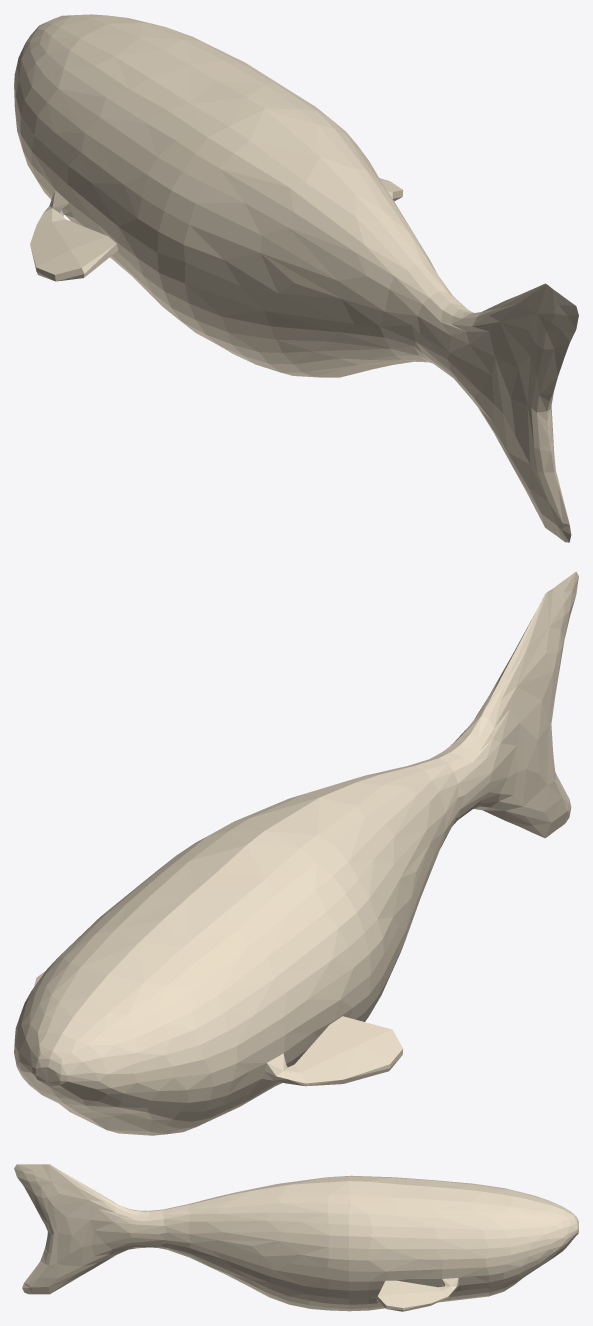
Rendered from beegfeesh2.glb.
3 renders of one model, top to bottom at view 1: azimuth 30°, elevation 25°; view 2: azimuth 150°, elevation 25°; view 3: azimuth 270°, elevation 25°, orthographic. The views are drawn at different scales.
Parts seen in each view (by area): view 1: fish; view 2: fish; view 3: fish.
Part boxes in pixels (box(x1,y1,x2,y2)): fish: box(14, 14, 578, 542); fish: box(14, 571, 578, 1135); fish: box(14, 1164, 578, 1311).
Size of the model in its own units: 1.52 by 1.09 by 3.96.
